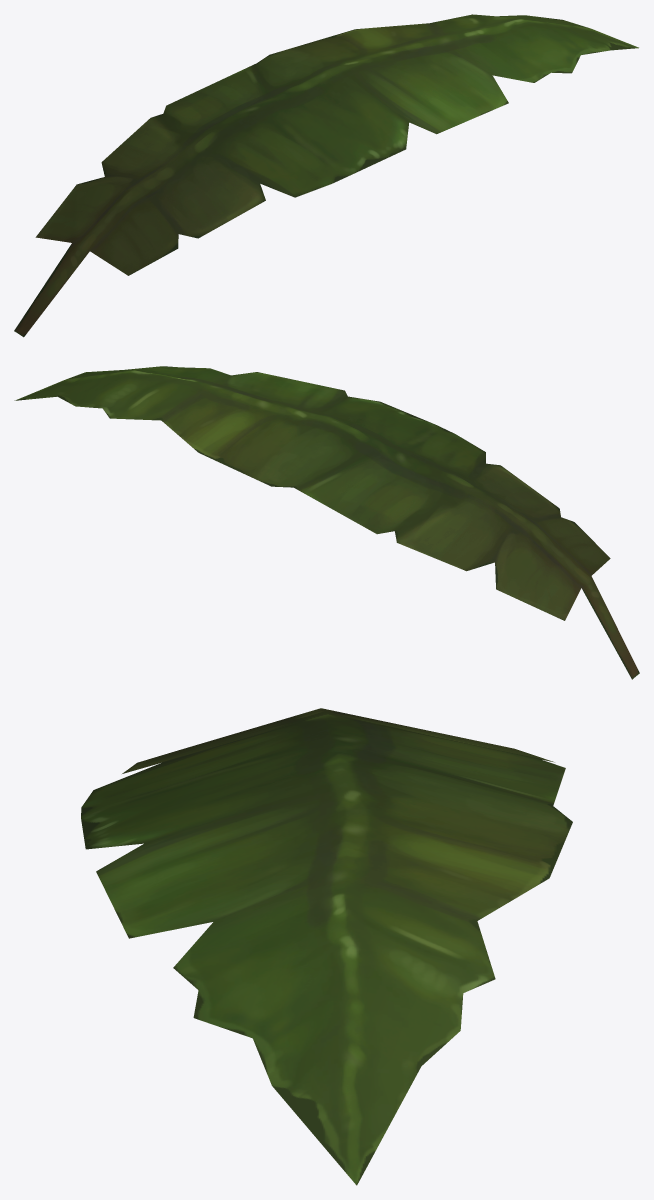
The model's file is Big_Leaf_02.fbx.
3 views of the same model, one above another, from view 1: azimuth 30°, elevation 25°; view 2: azimuth 150°, elevation 25°; view 3: azimuth 270°, elevation 25° (orthographic). The views are drawn at different scales.
Visible parts, largest first — view 1: Big_Leaf_02; view 2: Big_Leaf_02; view 3: Big_Leaf_02.
Boxes of the visible parts, x1,y1,x2,y2 form: Big_Leaf_02: (14, 14, 638, 337); Big_Leaf_02: (14, 366, 639, 679); Big_Leaf_02: (81, 708, 572, 1185).
Size of the model in its own units: 3.84 by 1.12 by 1.32.
1 material, 1 textured.
